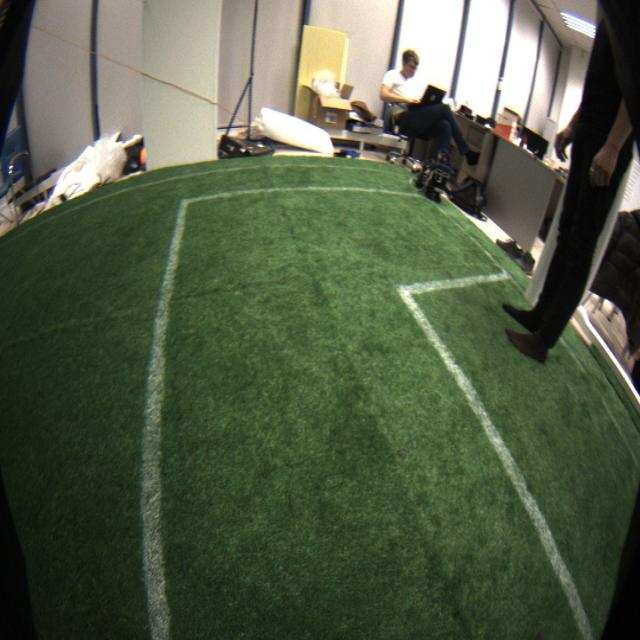goalpost: (523, 174, 576, 304)
